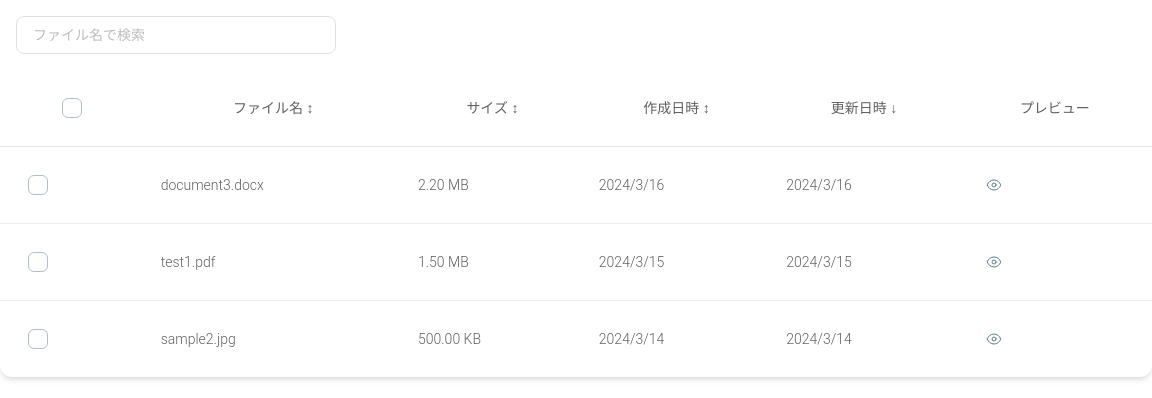
it: FileTable › 検索機能が正しく動作すること
Type "test1" into the field with placeholder "ファイル名で検索" at [176, 35], box [16,16,336,54]
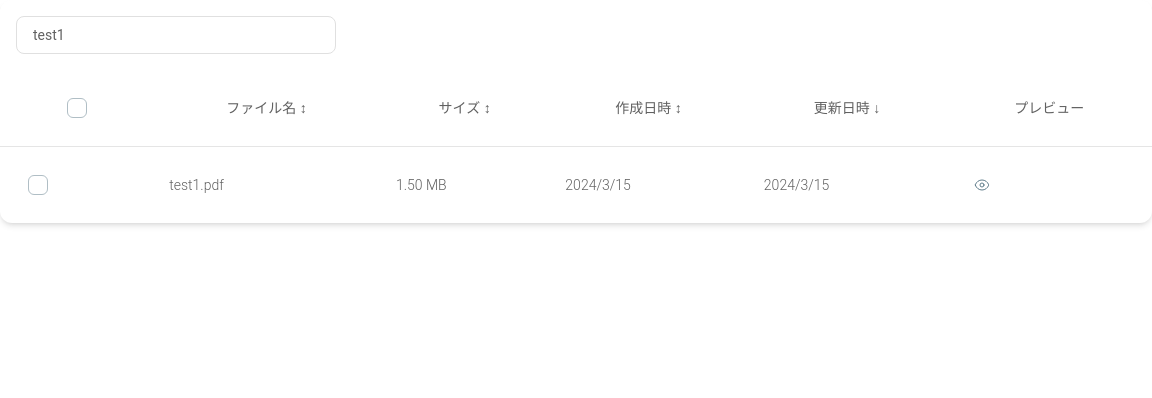
Expected: the text "test1.pdf" is shown, [169,176,224,192]
Expected: the text "sample2.jpg" is gone
